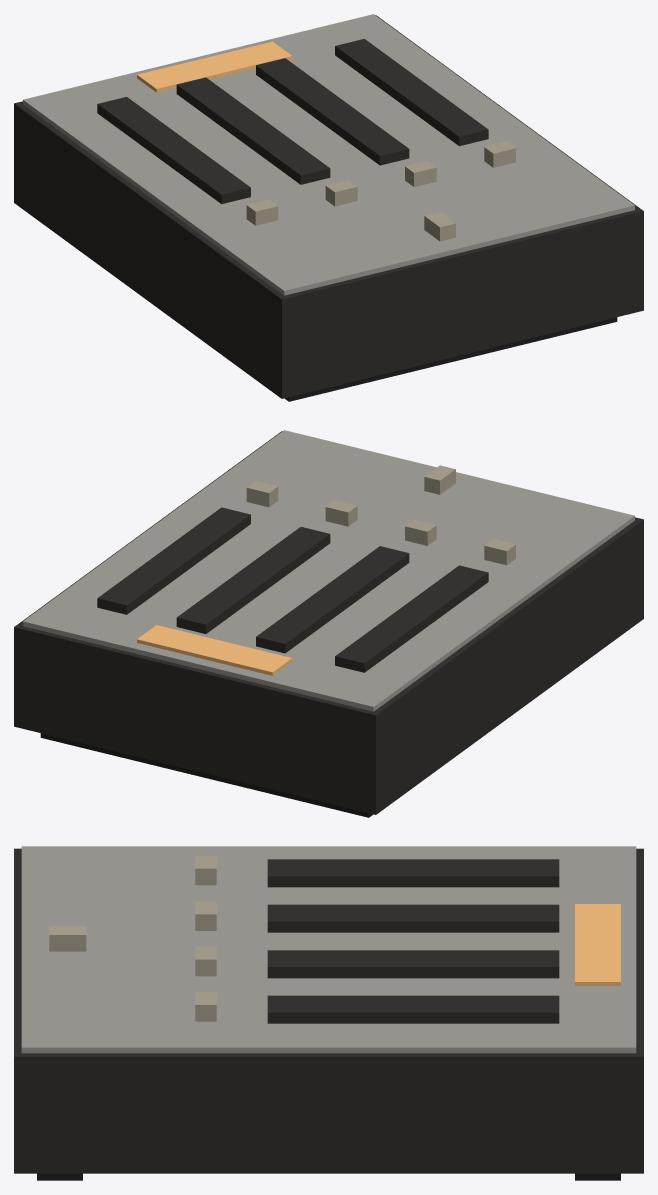
File: dj-mixer-4ch.glb
The picture shows the model from 3 angles, top to bottom: view 1: azimuth 30°, elevation 25°; view 2: azimuth 150°, elevation 25°; view 3: azimuth 270°, elevation 25°; orthographic projection. The views are drawn at different scales.
Parts seen in each view (by area): view 1: plastic-dark, brushed, plastic-light, emissive-warm, rubber; view 2: plastic-dark, brushed, plastic-light, emissive-warm, rubber; view 3: plastic-dark, brushed, emissive-warm, plastic-light, rubber.
Boxes of the visible parts, left/top/right/bottom form: plastic-dark: left=14, top=15, right=643, bottom=398; brushed: left=23, top=14, right=634, bottom=295; plastic-light: left=246, top=141, right=515, bottom=241; emissive-warm: left=137, top=41, right=292, bottom=92; rubber: left=284, top=317, right=617, bottom=401; plastic-dark: left=14, top=431, right=643, bottom=814; brushed: left=23, top=430, right=634, bottom=711; plastic-light: left=246, top=465, right=515, bottom=565; emissive-warm: left=137, top=625, right=292, bottom=675; rubber: left=40, top=733, right=373, bottom=817; plastic-dark: left=14, top=848, right=643, bottom=1173; brushed: left=21, top=846, right=636, bottom=1053; emissive-warm: left=575, top=904, right=620, bottom=985; plastic-light: left=49, top=855, right=216, bottom=1021; rubber: left=37, top=1173, right=620, bottom=1180.
Bounding box in the file's own units: 0.32 × 0.112 × 0.41.
